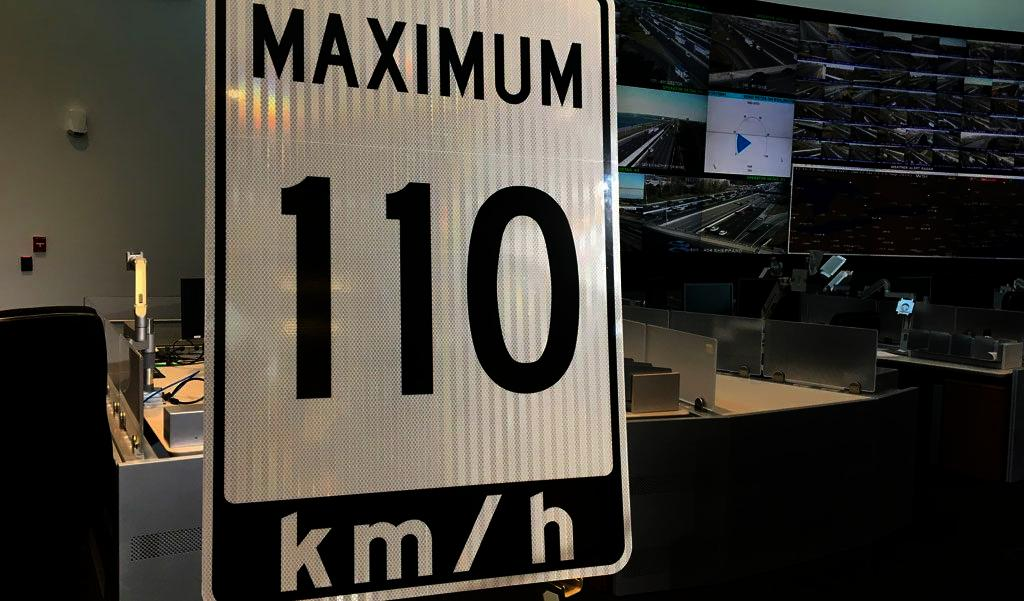speed limit sign: (203, 8, 635, 590)
